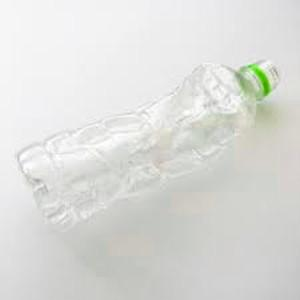Plastic: (18, 57, 281, 235)
